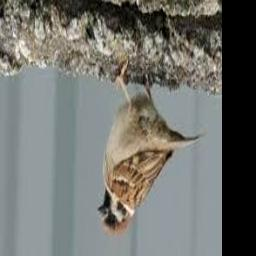Sparrow: (97, 64, 203, 235)
